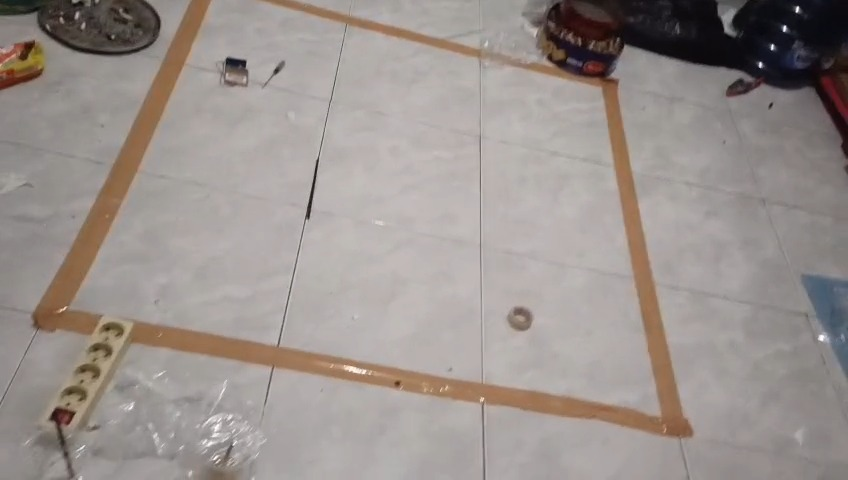floor marking: (131, 57, 691, 436), (33, 0, 207, 335), (277, 0, 482, 57)
